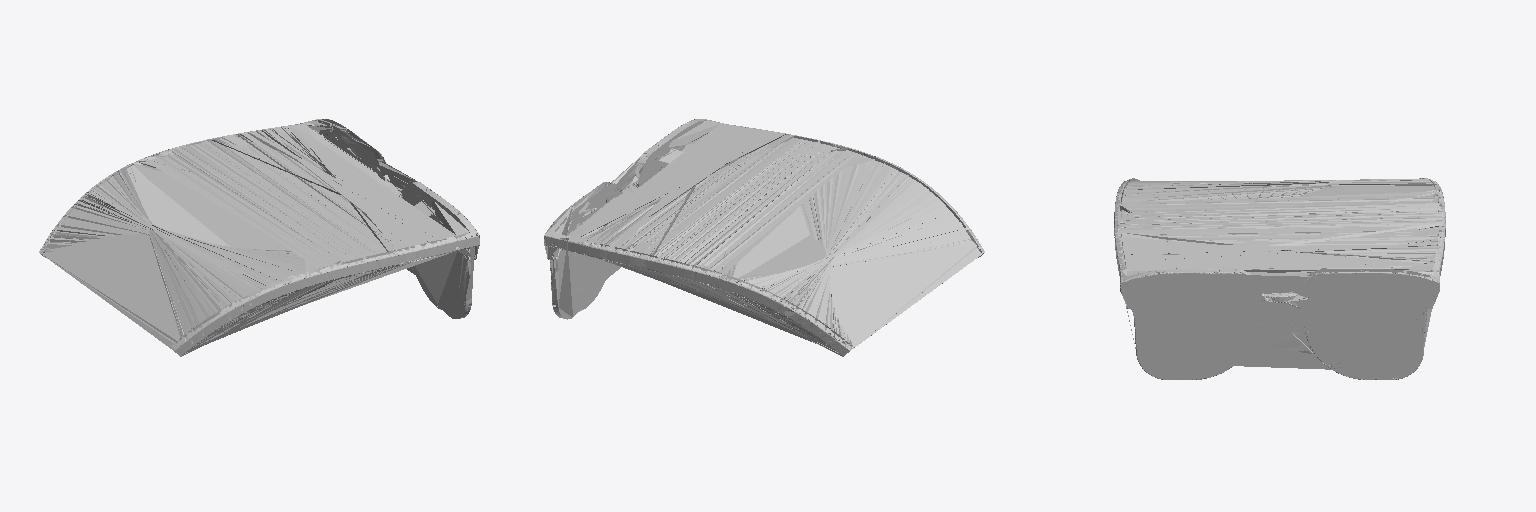
Rendered from glasses 5.obj.
The picture shows the model from 3 angles: view 1: azimuth 30°, elevation 25°; view 2: azimuth 150°, elevation 25°; view 3: azimuth 270°, elevation 25°; orthographic projection.
Parts seen in each view (by area): view 1: Mirror.5; view 2: Mirror.5; view 3: Mirror.5.
Part boxes in pixels (x1,y1,x2,y2): Mirror.5: (39,119,479,356); Mirror.5: (544,119,984,356); Mirror.5: (1114,178,1445,379).
Size of the model in its own units: 144 by 49.85 by 139.